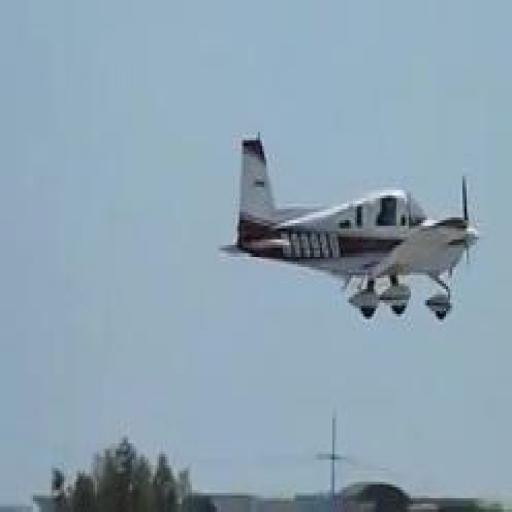aircraft: (221, 133, 478, 322)
